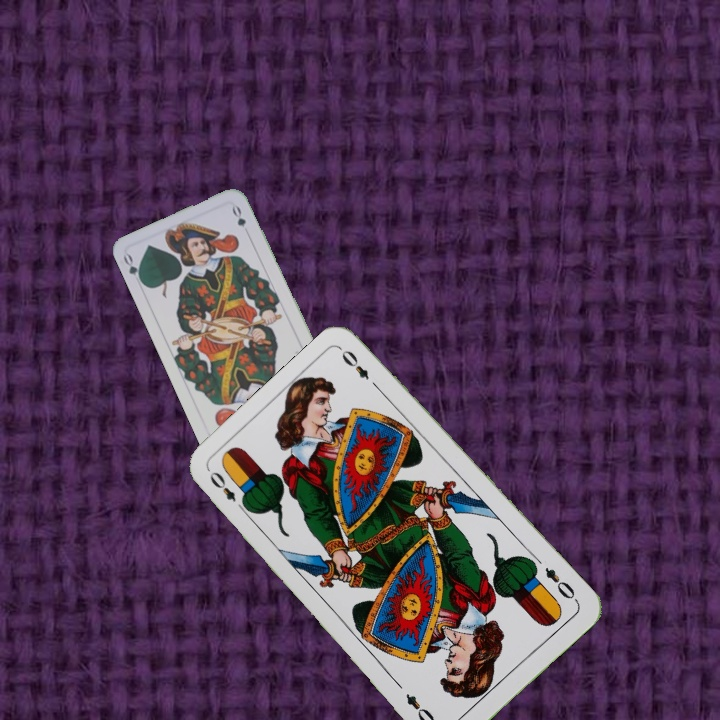EO: (205, 467, 250, 516), (540, 563, 581, 605)
GO: (119, 250, 147, 289)
